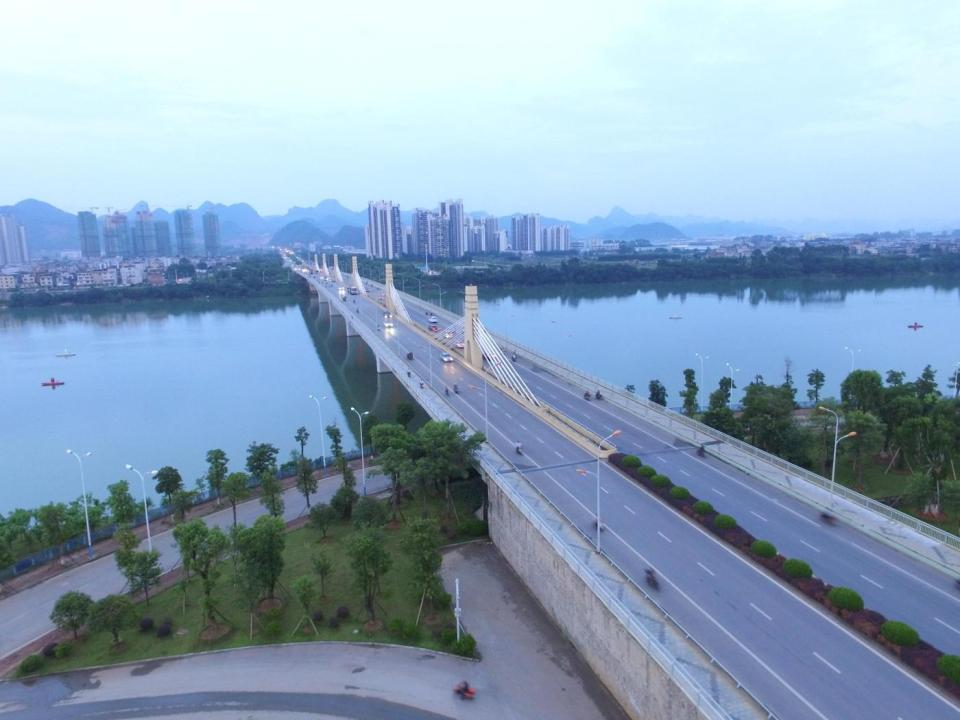car: (438, 352, 454, 363), (482, 352, 497, 360), (442, 329, 453, 339), (383, 320, 394, 328), (453, 341, 464, 348), (428, 325, 437, 332), (428, 316, 437, 323), (383, 311, 392, 318), (364, 288, 370, 292), (338, 286, 344, 290)
van: (347, 286, 357, 295)
